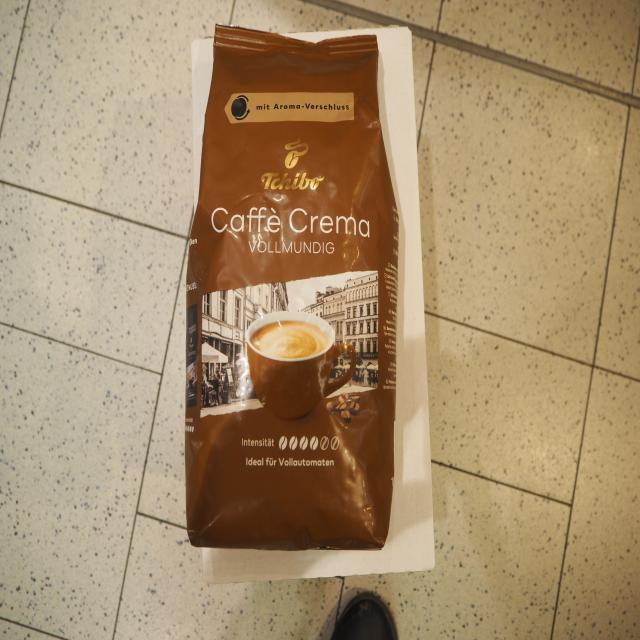CC Vollmundig 36 Pads: (179, 17, 406, 556)
